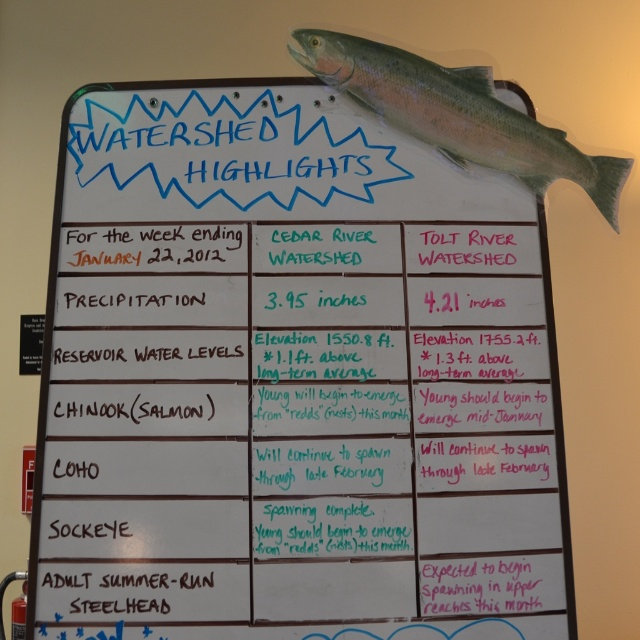Fish: (290, 26, 626, 235)
